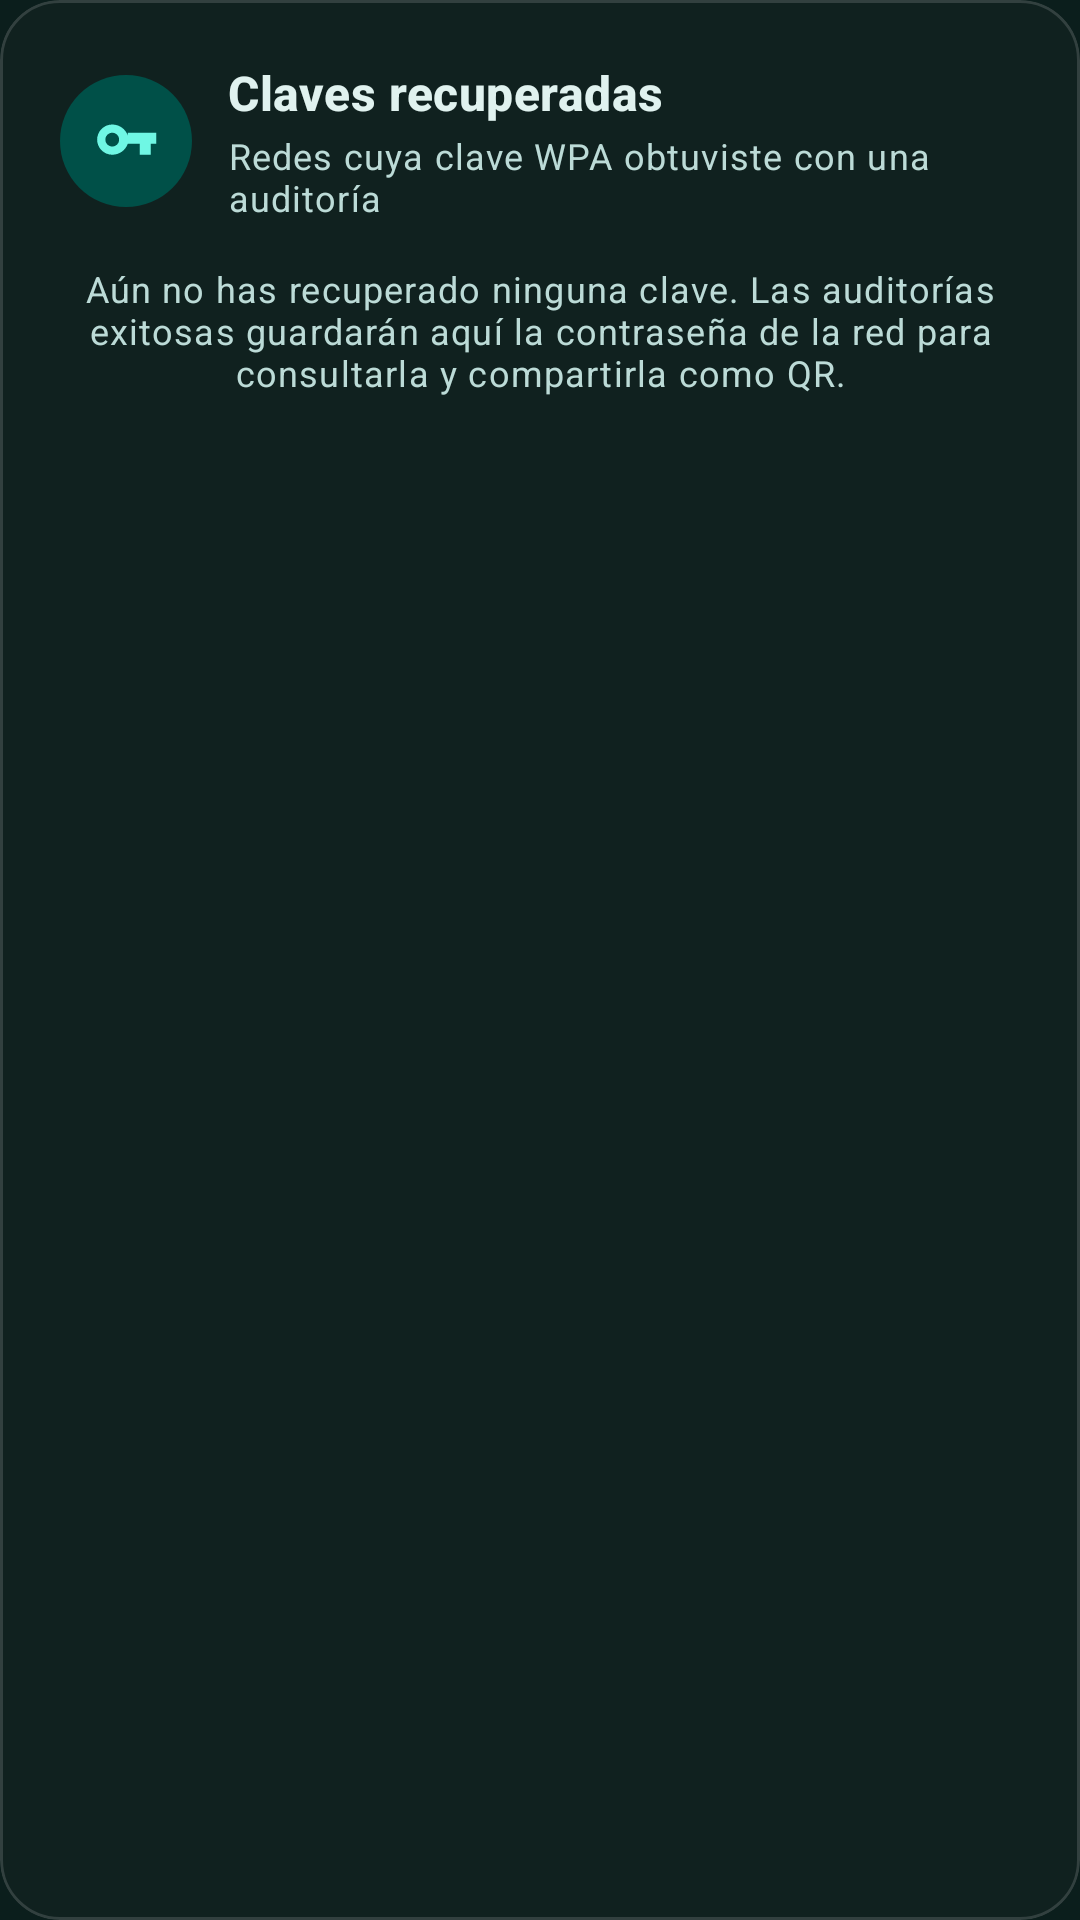

Named icons in this screenshot (1080w x 1920h) and their centers, [x,y]:
key: [127,139]
